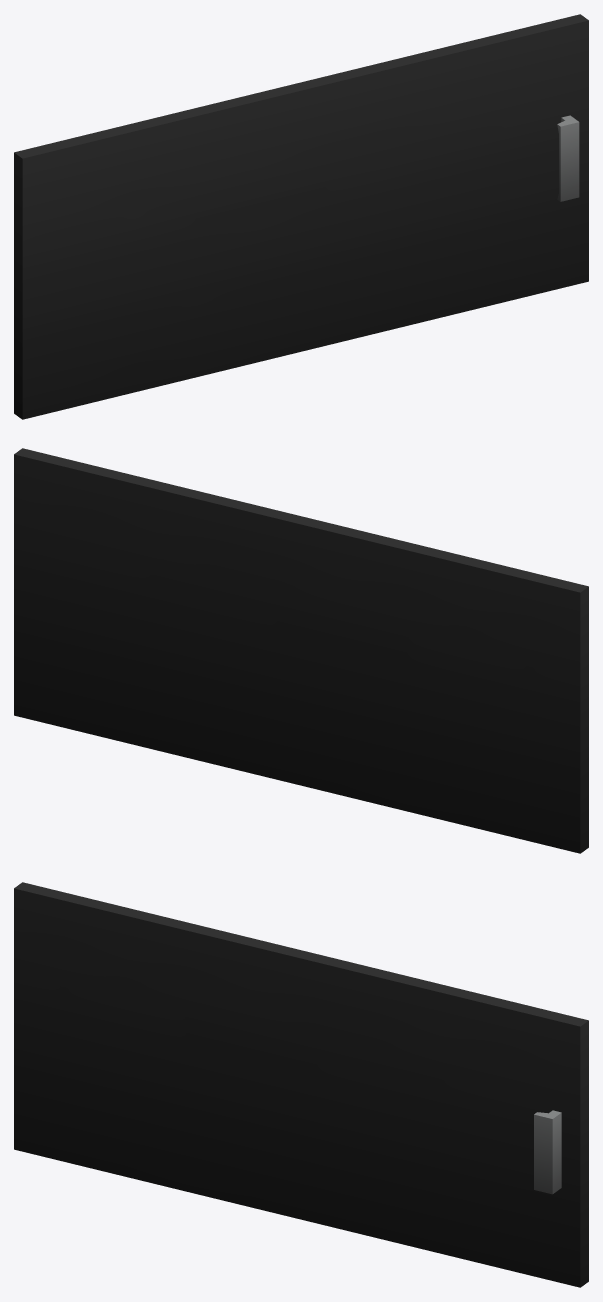
Rendered from Door_SideboardCabinet_A_Black_left.fbx.
The picture shows the model from 3 angles, top to bottom: view 1: azimuth 30°, elevation 25°; view 2: azimuth 150°, elevation 25°; view 3: azimuth 330°, elevation 25°; orthographic projection.
Parts seen in each view (by area): view 1: Door_SideboardCabinet_A_Black_left; view 2: Door_SideboardCabinet_A_Black_left; view 3: Door_SideboardCabinet_A_Black_left.
Part boxes in pixels (bbox=[...]): Door_SideboardCabinet_A_Black_left: bbox=[14, 14, 588, 419]; Door_SideboardCabinet_A_Black_left: bbox=[14, 448, 588, 853]; Door_SideboardCabinet_A_Black_left: bbox=[14, 882, 588, 1287].
Size of the model in its own units: 94.47 by 41.61 by 5.09.
